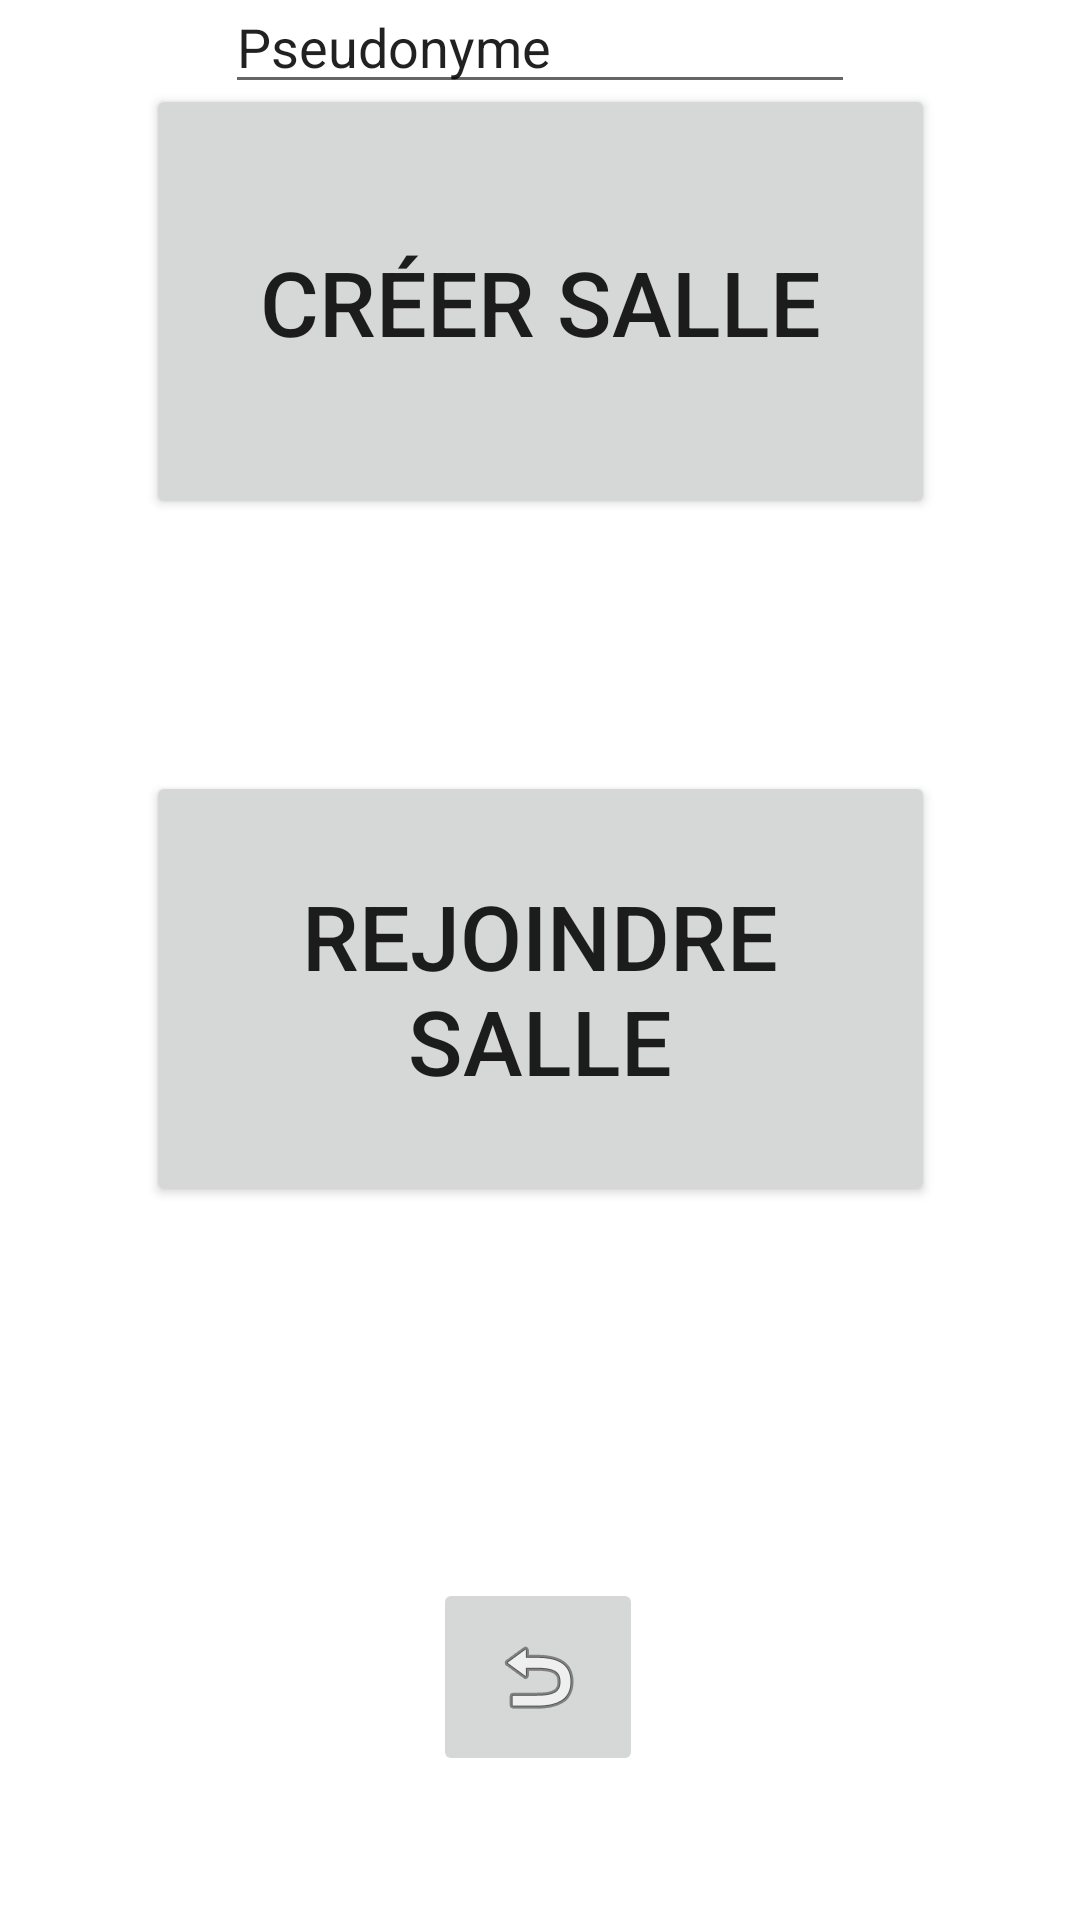

Named icons in this screenshot (1080w x 1920h) and their bounding boxes, [left=x1, top=y1, right=x2, bottom=y2]:
revert: [left=445, top=1596, right=631, bottom=1758]
